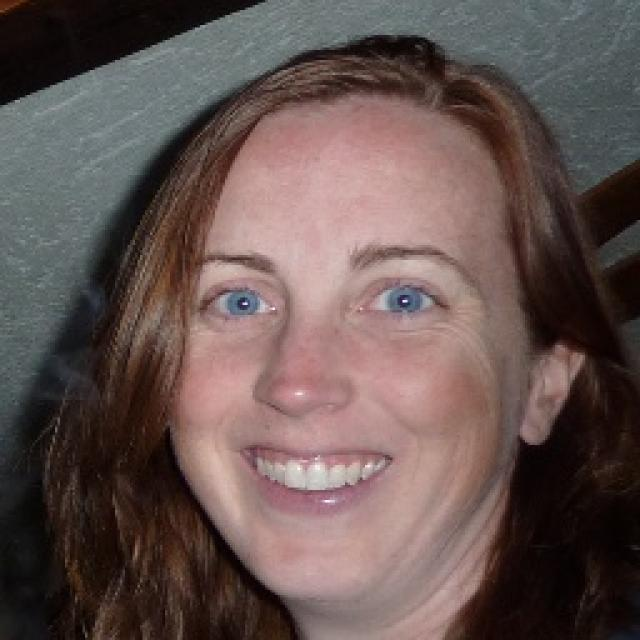earlobe: (518, 339, 587, 448)
